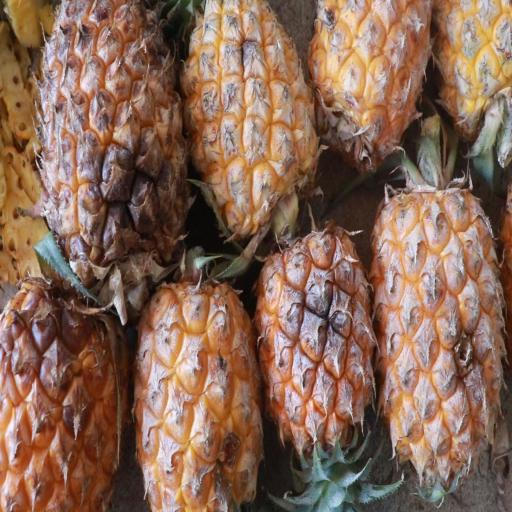Pineapple - v8 v1: (36, 0, 190, 295), (369, 176, 505, 494), (179, 0, 323, 246), (130, 258, 270, 510), (1, 263, 135, 511), (253, 216, 376, 454), (307, 0, 436, 172)
